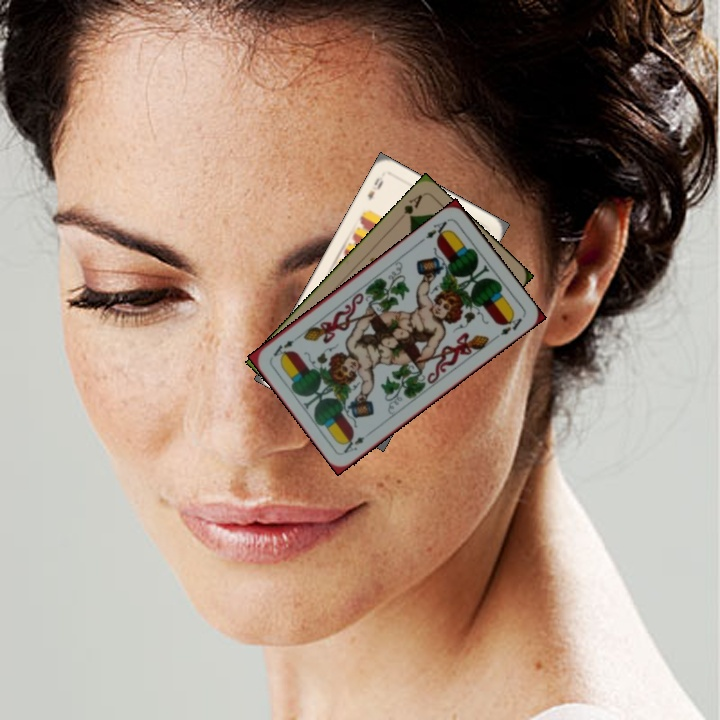E9: (364, 173, 386, 203)
EA: (339, 427, 375, 456), (416, 217, 452, 245)
GA: (400, 190, 425, 223)
